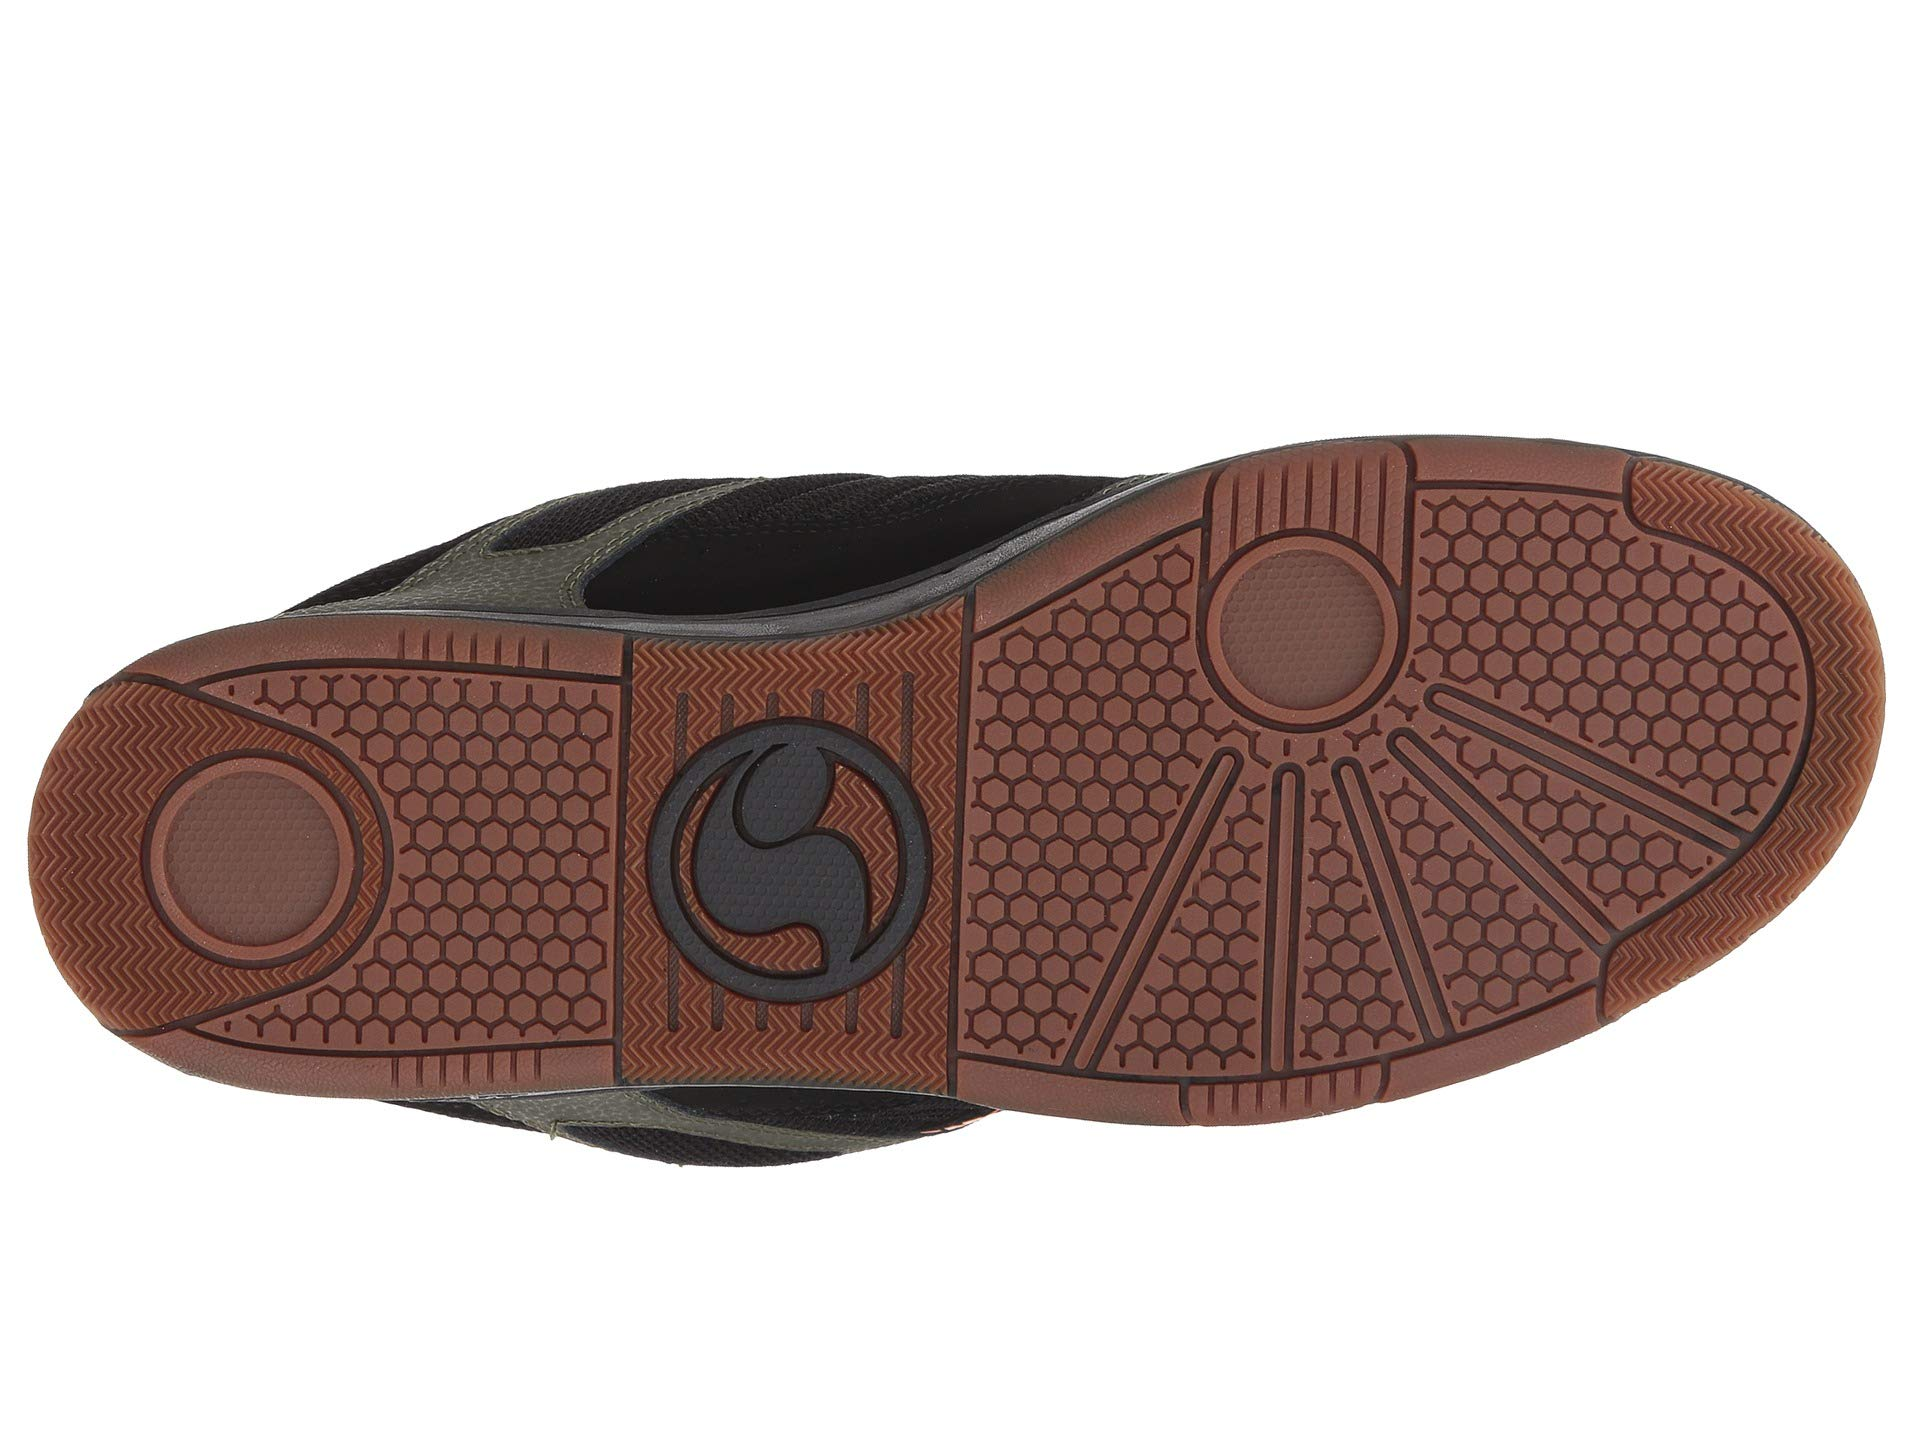chevron: (544, 706, 977, 1057), (86, 722, 467, 1035)
circle: (1117, 479, 1562, 871), (544, 706, 977, 1057), (86, 722, 467, 1035)
line: (1117, 479, 1562, 871), (544, 706, 977, 1057)
polygon: (1117, 479, 1562, 871), (544, 706, 977, 1057), (86, 722, 467, 1035)
